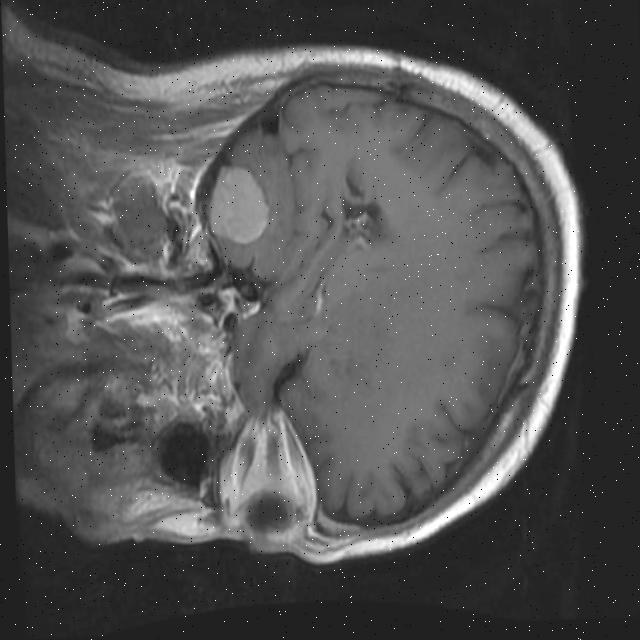Meningioma: (207, 163, 269, 246)
